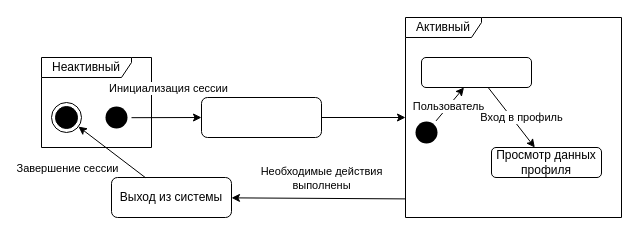
This 640x235 diagram has some shape labels left out. Here are the shapes that lost their labels. From the top down, the box of each, then its label:
(420, 56, 532, 88): Ввод данных для регистрации
(200, 96, 322, 138): Регистрация в системе
